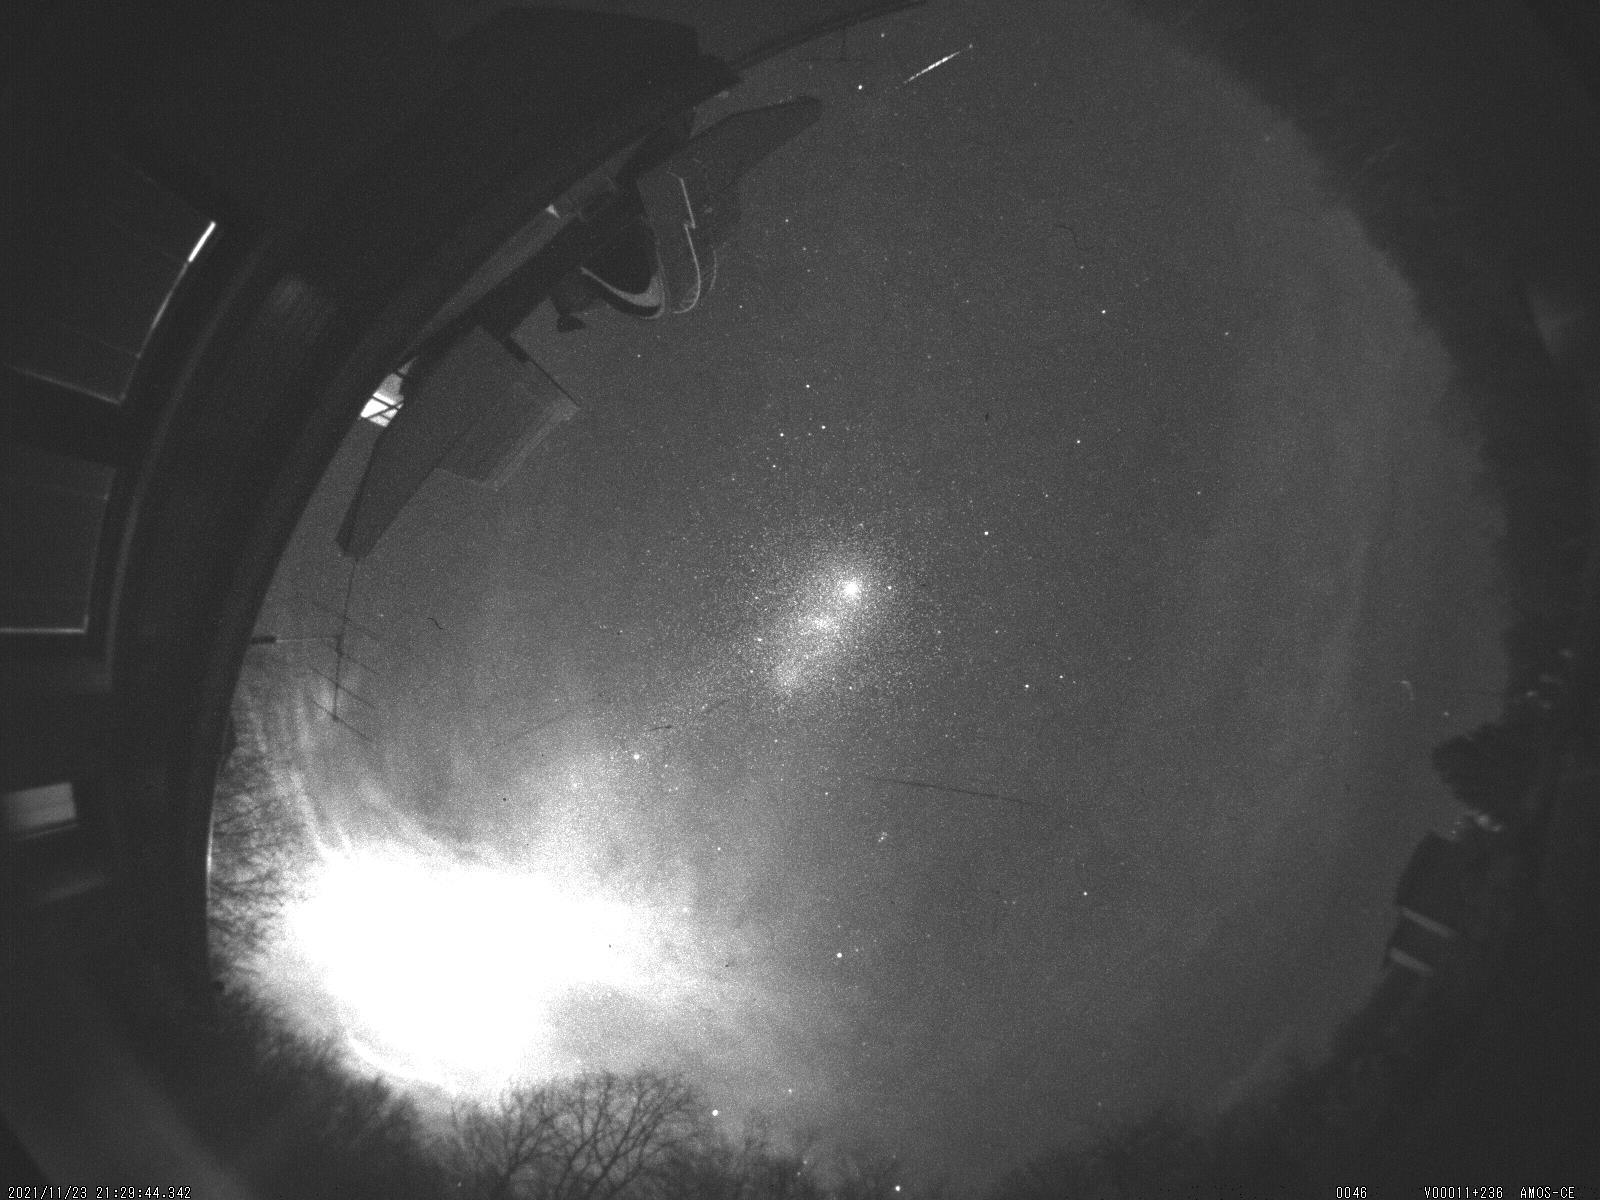Meteor: (889, 25, 994, 96)
